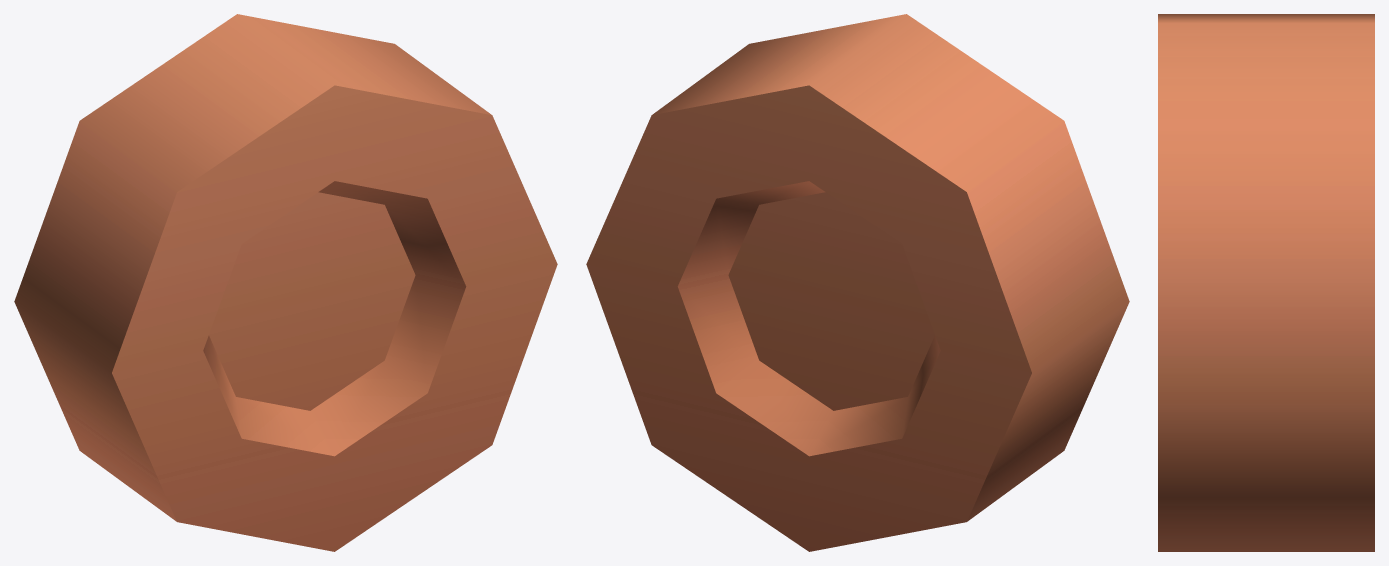
File: kenney-toy-car-item-coin-bronze.glb
The picture shows the model from 3 angles, left to right: view 1: azimuth 30°, elevation 25°; view 2: azimuth 150°, elevation 25°; view 3: azimuth 270°, elevation 25°; orthographic projection. The views are drawn at different scales.
Parts seen in each view (by area): view 1: item-coin-bronze; view 2: item-coin-bronze; view 3: item-coin-bronze.
Boxes of the visible parts, left/top/right/bottom form: item-coin-bronze: left=14, top=14, right=557, bottom=551; item-coin-bronze: left=586, top=14, right=1129, bottom=551; item-coin-bronze: left=1158, top=14, right=1374, bottom=551.
Bounding box in the file's own units: 0.264 × 0.264 × 0.1.
1 material, 1 textured.
